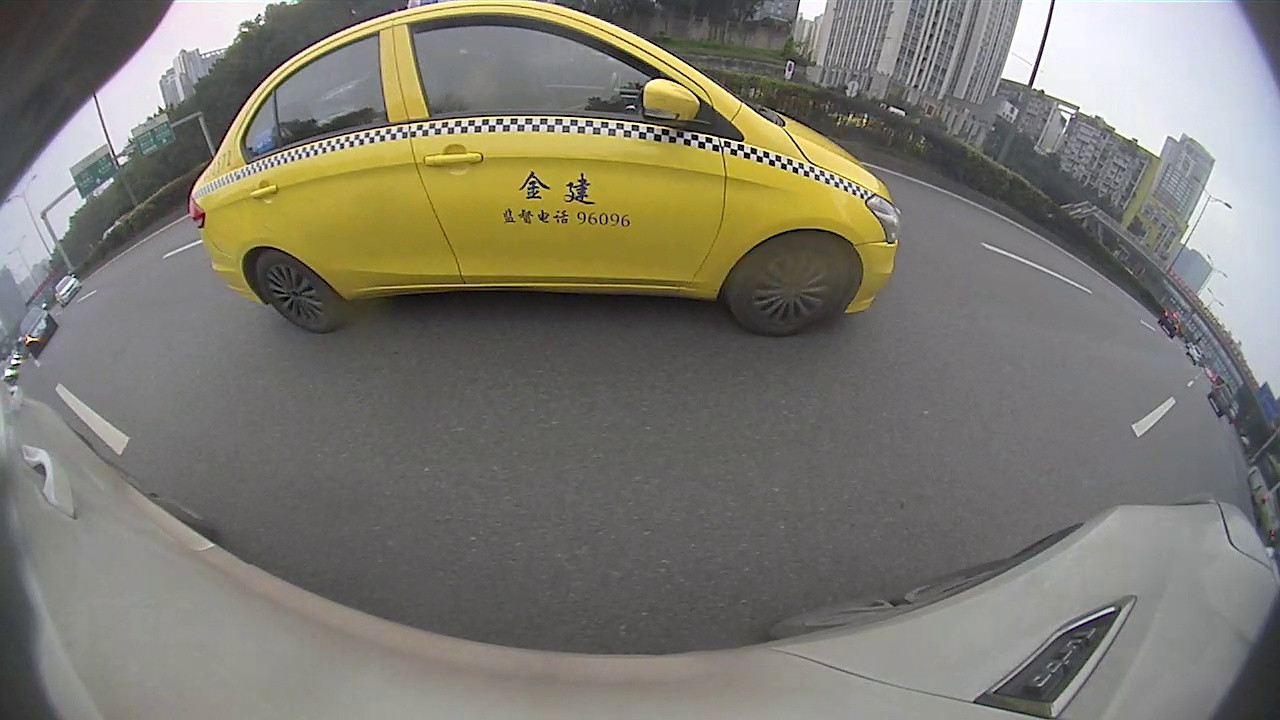car: (189, 4, 903, 339), (15, 300, 60, 361), (52, 274, 83, 309)
front: (720, 230, 858, 340)
rear: (251, 245, 347, 334)
